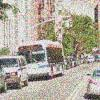buses: (14, 39, 66, 79)
